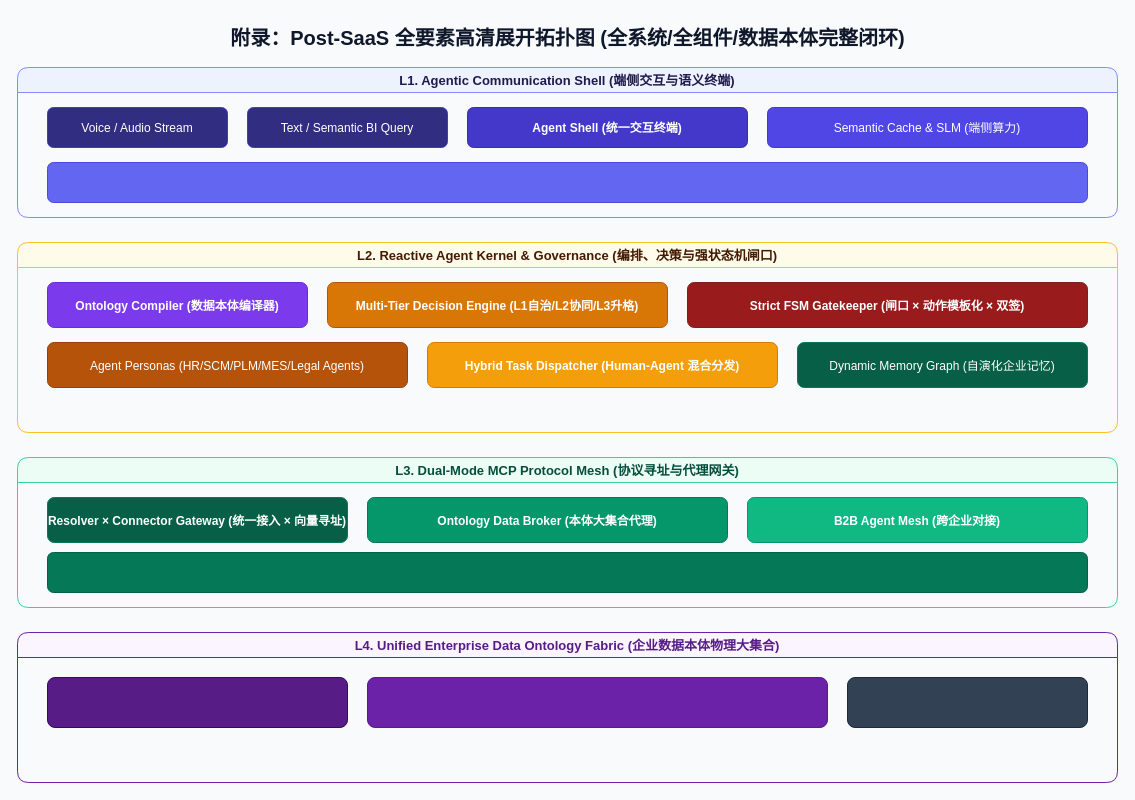
This 1135x800 diagram has some shape labels left out. The shapes that lost their labels are listed below. From the top down, each one's centre as x and y in pixels, then its label:
At (567,182): "Semantic BI & Interaction Projection Renderer (交互投影 · 动态组件/卡片 · 即用即散)".
At (567,572): "Full Value-Chain MCP Servers (SCM / MES / PLM / ERP / Legal MCP Clusters)".
At (197,702): "Data CDC Stream Monitor (数据变更/沟通流捕获)".
At (597,702): "Enterprise Data Ontology Fabric (数据本体大集合) [ 哲学实体映射 + 全量业务数据 + 沟通流 + 历史行为 ]".
At (967,702): "Immutable Audit Log (只读不可篡改日志)".
